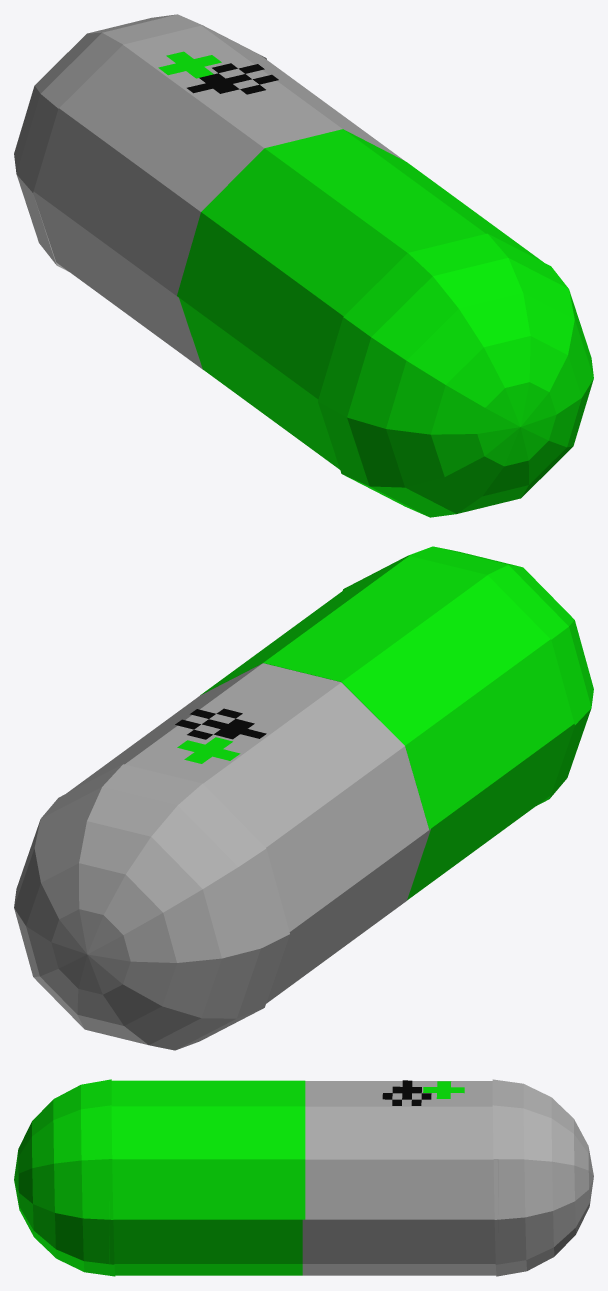
The model's file is growUpAllObj.fbx.
3 renders of one model, top to bottom at view 1: azimuth 30°, elevation 25°; view 2: azimuth 150°, elevation 25°; view 3: azimuth 270°, elevation 25°, orthographic. The views are drawn at different scales.
Parts seen in each view (by area): view 1: growUpAllObj; view 2: growUpAllObj; view 3: growUpAllObj.
Boxes of the visible parts, box(x1,y1,x2,y2) form: growUpAllObj: box(14, 14, 593, 517); growUpAllObj: box(14, 546, 593, 1050); growUpAllObj: box(14, 1079, 593, 1276).
Bounding box in the file's own units: 2.05 × 1.95 × 5.99.
